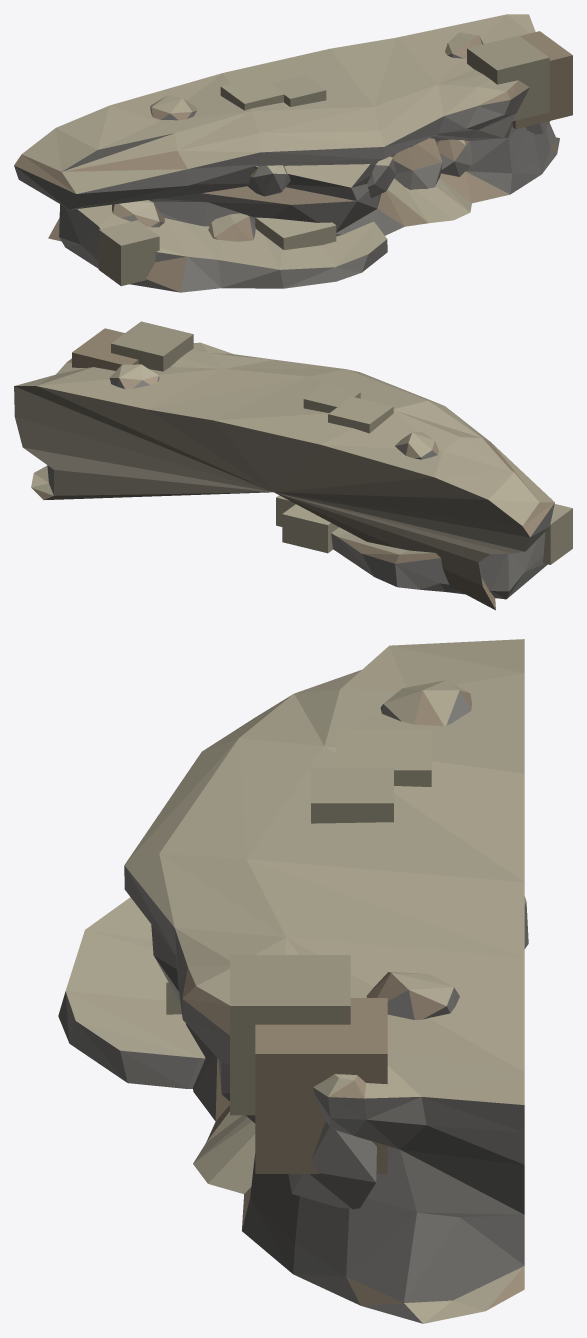
Rendered from hill_half_01a.glb.
3 views of the same model, one above another, from view 1: azimuth 30°, elevation 25°; view 2: azimuth 150°, elevation 25°; view 3: azimuth 270°, elevation 25° (orthographic). The views are drawn at different scales.
Visible parts, largest first — view 1: mapa.terreno.colina.env_hill_half_01a; view 2: mapa.terreno.colina.env_hill_half_01a; view 3: mapa.terreno.colina.env_hill_half_01a.
Boxes of the visible parts, x1,y1,x2,y2 form: mapa.terreno.colina.env_hill_half_01a: (14,14,572,292); mapa.terreno.colina.env_hill_half_01a: (14,321,572,610); mapa.terreno.colina.env_hill_half_01a: (58,639,528,1323).
Size of the model in its own units: 22.32 by 5.43 by 8.73.
